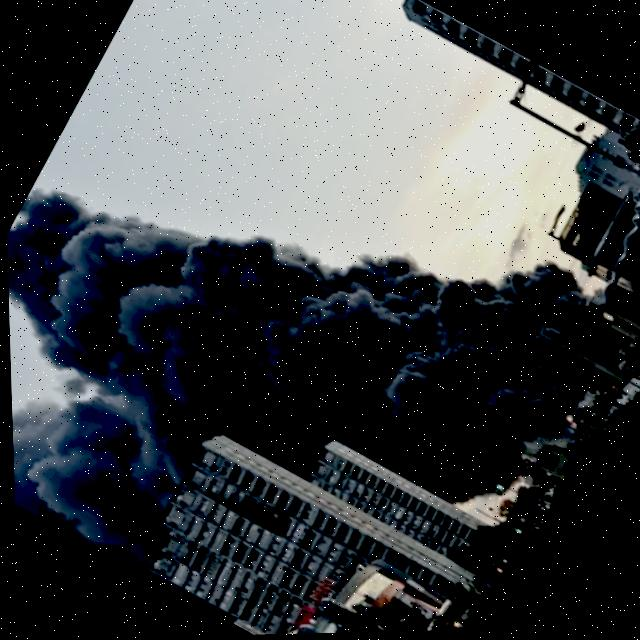Smoke: (1, 15, 614, 533), (6, 252, 328, 625)
